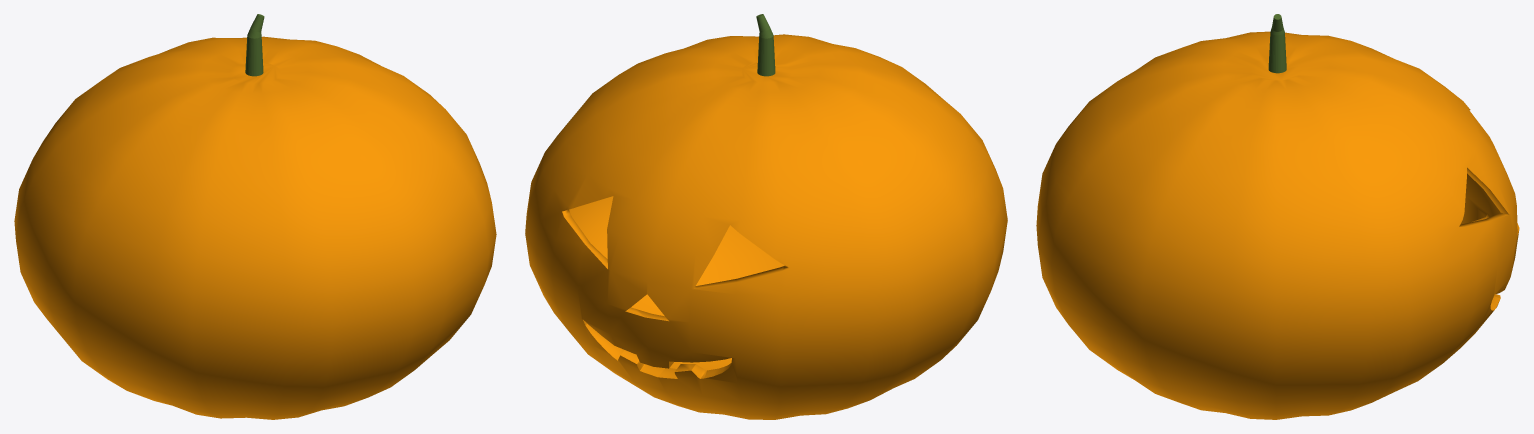
File: Pumpkin_Halloween.fbx
3 renders of one model, left to right at view 1: azimuth 30°, elevation 25°; view 2: azimuth 150°, elevation 25°; view 3: azimuth 270°, elevation 25°, orthographic.
Parts seen in each view (by area): view 1: Pumpkin; view 2: Pumpkin; view 3: Pumpkin.
Boxes of the visible parts, bbox=[...] form: Pumpkin: bbox=[14, 14, 496, 419]; Pumpkin: bbox=[525, 14, 1007, 419]; Pumpkin: bbox=[1036, 14, 1519, 419].
Size of the model in its own units: 140 by 120 by 139.
